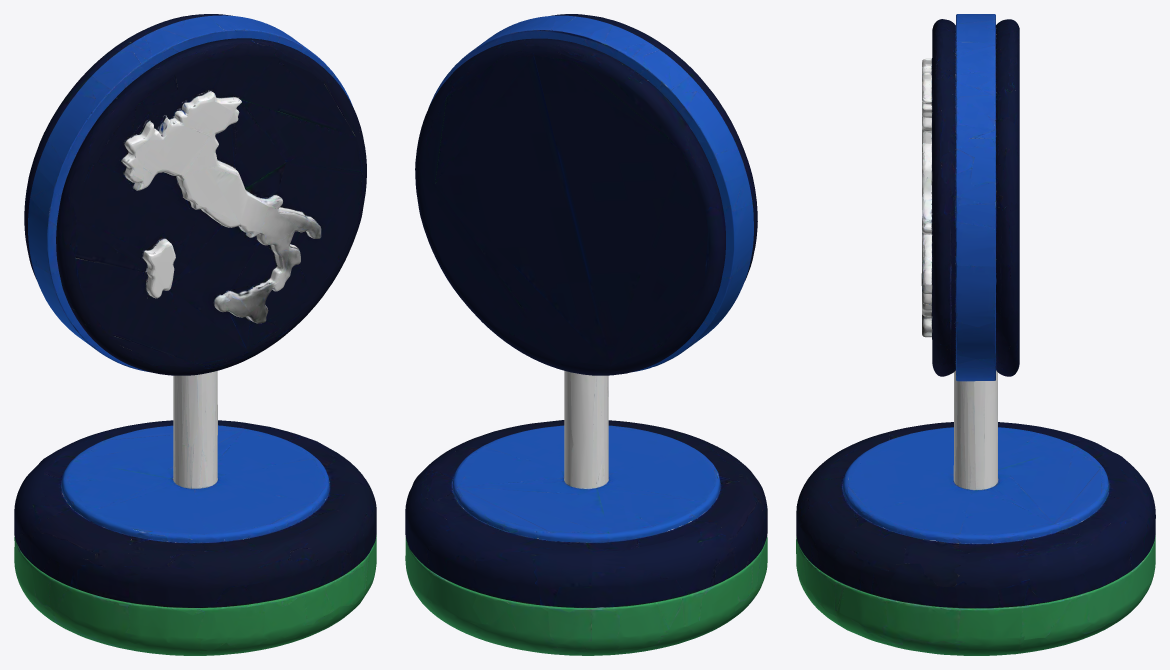
Rendered from pin-italia.glb.
The picture shows the model from 3 angles, left to right: view 1: azimuth 30°, elevation 25°; view 2: azimuth 150°, elevation 25°; view 3: azimuth 270°, elevation 25°; orthographic projection.
Parts seen in each view (by area): view 1: Mesh_0; view 2: Mesh_0; view 3: Mesh_0.
Boxes of the visible parts, x1,y1,x2,y2 form: Mesh_0: [14, 14, 376, 655]; Mesh_0: [405, 14, 767, 655]; Mesh_0: [796, 14, 1155, 655].
Size of the model in its own units: 1.12 by 1.9 by 1.11.
Materials: 1 (1 with a texture image).
